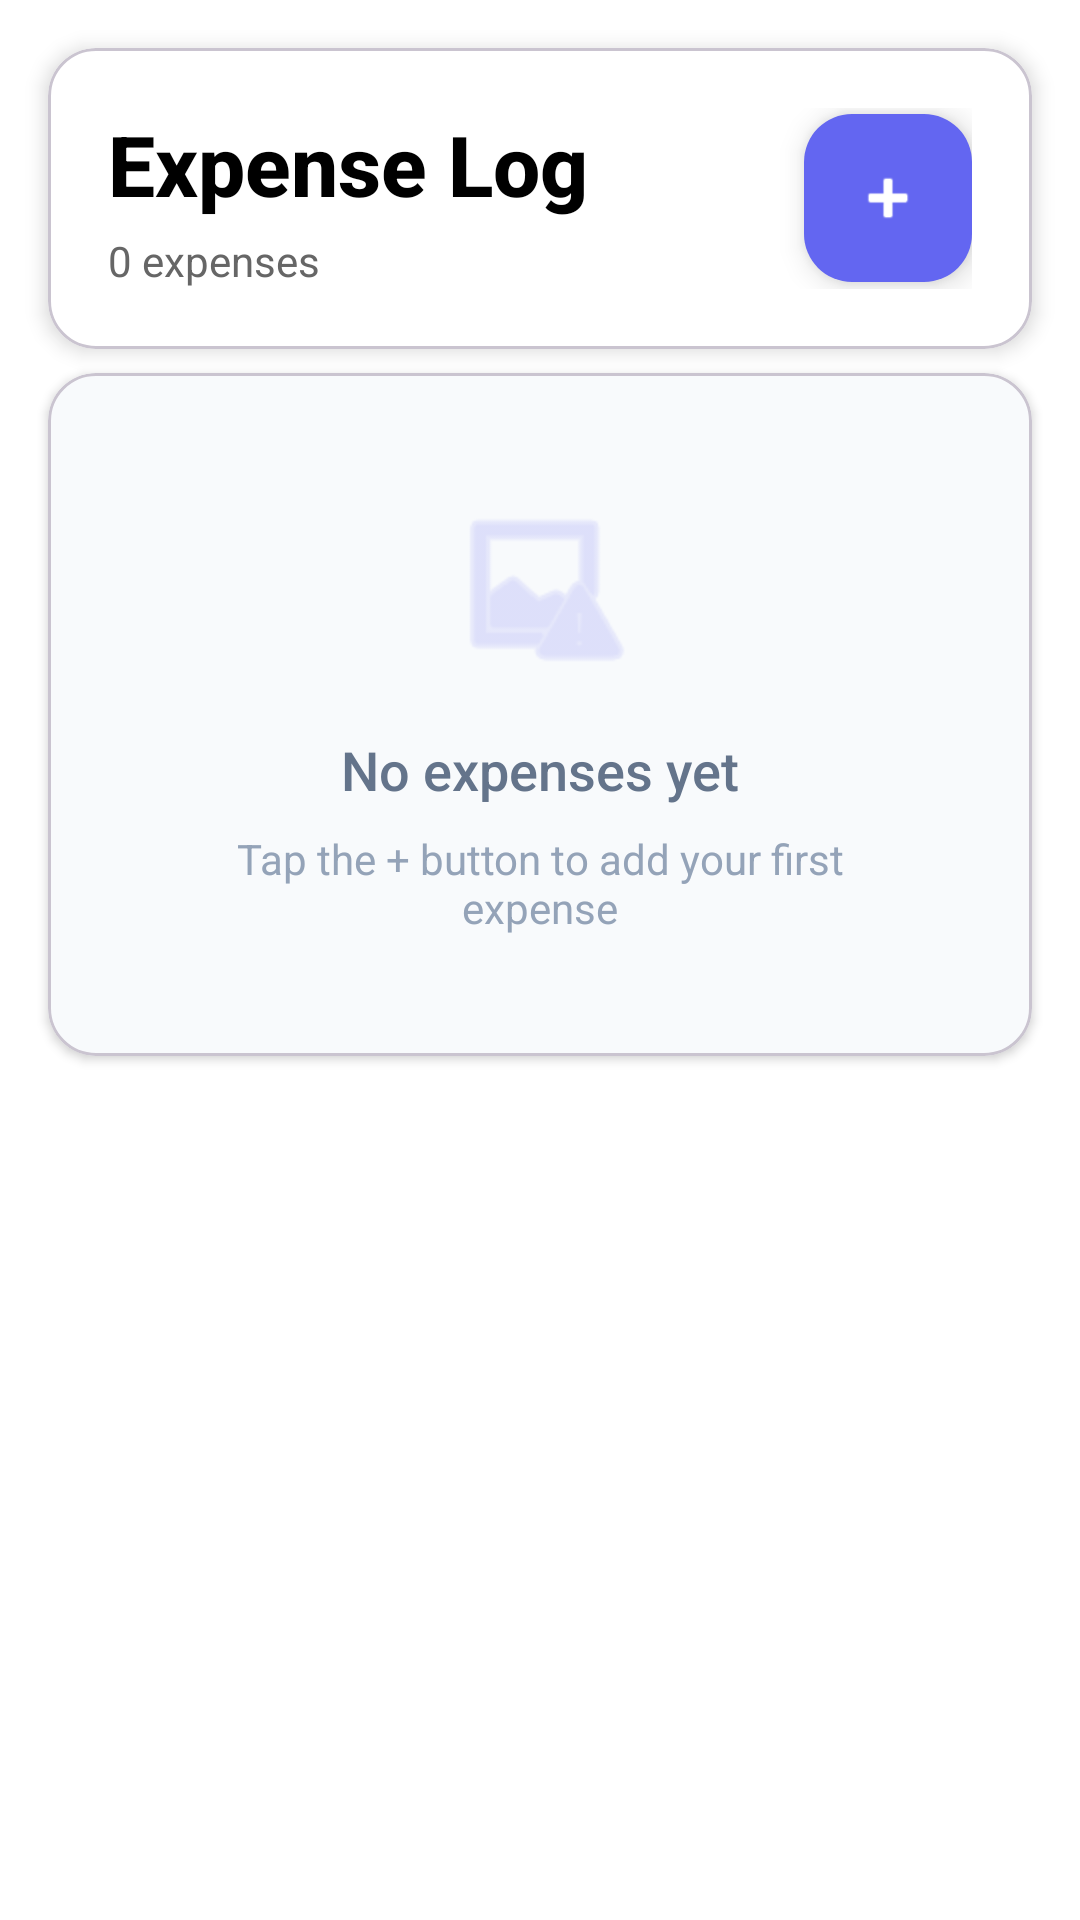

Icon bounding boxes for this 1080px x 1920px phone screenshot, format (x1, y1, x2, y2):
Add expense: (804, 114, 972, 282)
